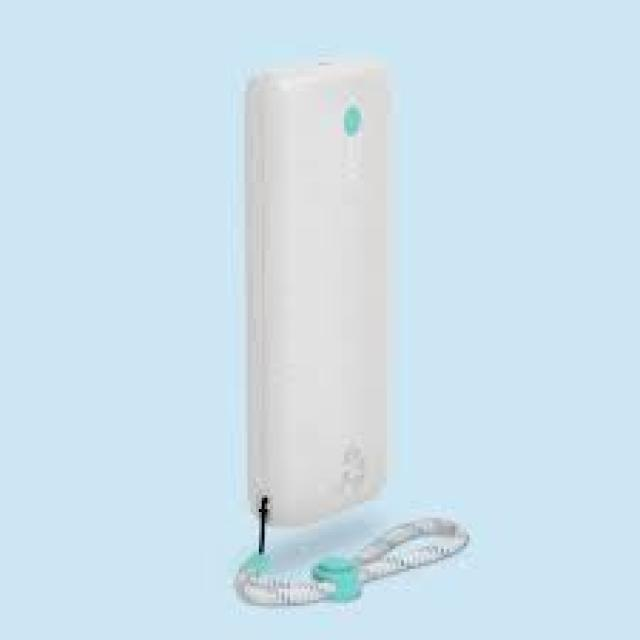power_bank: (240, 55, 400, 527)
